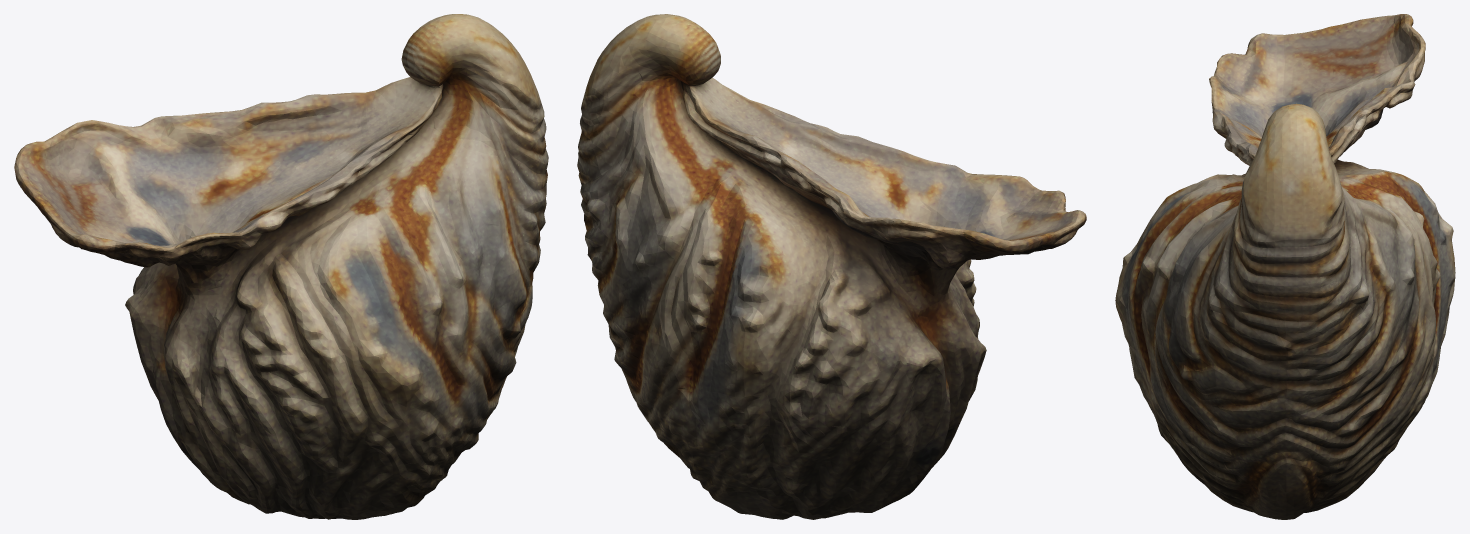
The picture shows the model from 3 angles, left to right: view 1: azimuth 30°, elevation 25°; view 2: azimuth 150°, elevation 25°; view 3: azimuth 270°, elevation 25°; orthographic projection. The views are drawn at different scales.
Parts seen in each view (by area): view 1: world; view 2: world; view 3: world.
Part boxes in pixels (bbox=[...]): world: bbox=[14, 14, 548, 519]; world: bbox=[577, 14, 1086, 519]; world: bbox=[1115, 14, 1455, 519].
Bounding box in the file's own units: 0.9993 × 0.9125 × 0.6417.
1 material, 1 textured.
